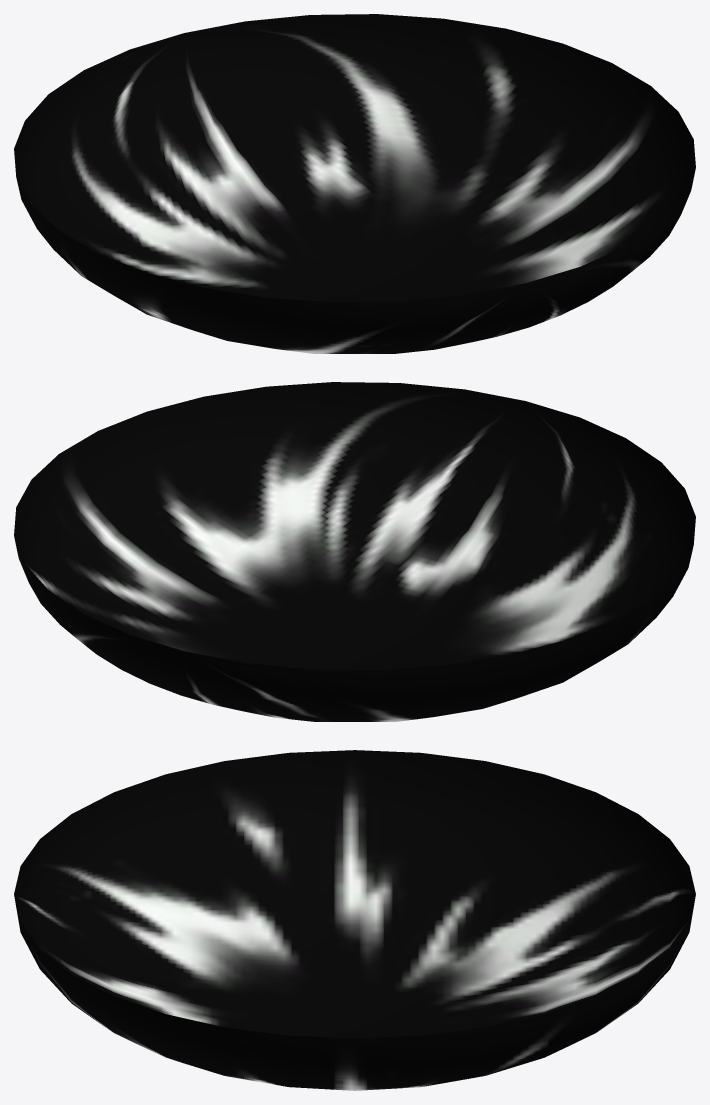
File: banyuan2.FBX
The picture shows the model from 3 angles, top to bottom: view 1: azimuth 30°, elevation 25°; view 2: azimuth 150°, elevation 25°; view 3: azimuth 270°, elevation 25°; orthographic projection.
Parts seen in each view (by area): view 1: bianbanqiu2; view 2: bianbanqiu2; view 3: bianbanqiu2.
Part boxes in pixels (bbox=[...]): bianbanqiu2: bbox=[14, 14, 695, 353]; bianbanqiu2: bbox=[14, 382, 695, 721]; bianbanqiu2: bbox=[14, 750, 695, 1090].
Bounding box in the file's own units: 2220 × 481 × 2220.
